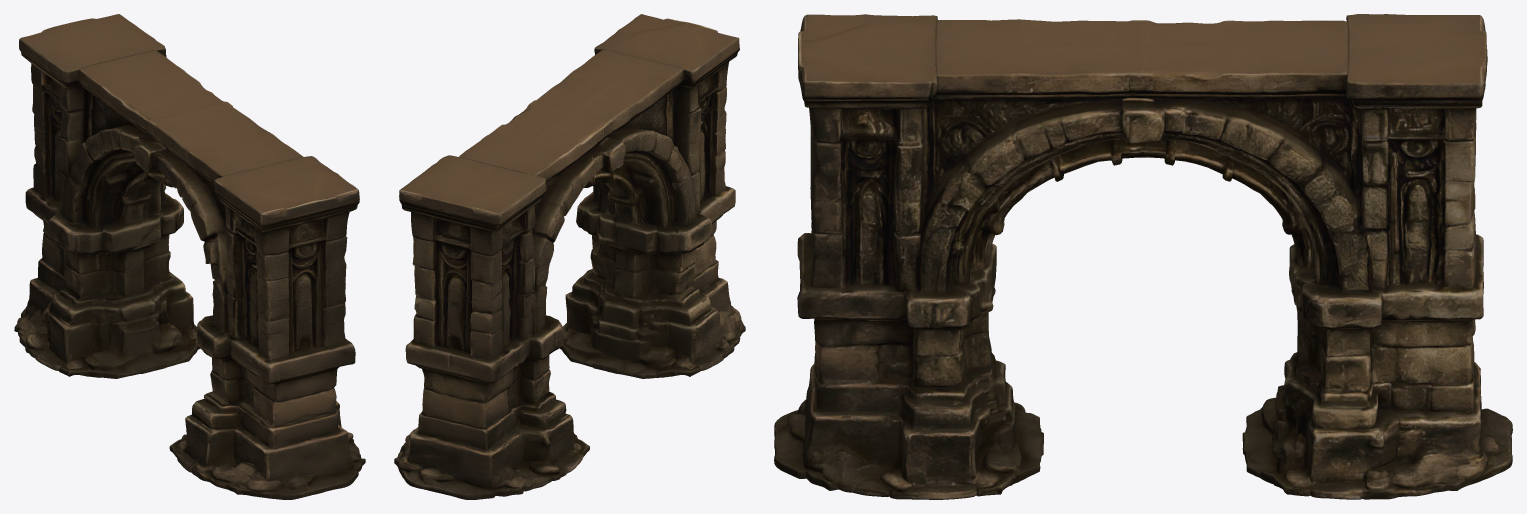
The model's file is import-1780587069917-selected_model_20260603_233818_meshopt.glb.
3 renders of one model, left to right at view 1: azimuth 30°, elevation 25°; view 2: azimuth 150°, elevation 25°; view 3: azimuth 270°, elevation 25°, orthographic. The views are drawn at different scales.
Parts seen in each view (by area): view 1: tripo_node_76767317-53f4-4de8-bf6d-e1a622c9609b; view 2: tripo_node_76767317-53f4-4de8-bf6d-e1a622c9609b; view 3: tripo_node_76767317-53f4-4de8-bf6d-e1a622c9609b.
Boxes of the visible parts, x1,y1,x2,y2 form: tripo_node_76767317-53f4-4de8-bf6d-e1a622c9609b: (14, 14, 365, 499); tripo_node_76767317-53f4-4de8-bf6d-e1a622c9609b: (394, 14, 745, 499); tripo_node_76767317-53f4-4de8-bf6d-e1a622c9609b: (774, 14, 1512, 499).
Size of the model in its own units: 0.3391 by 0.5989 by 1.
1 material, 1 textured.
